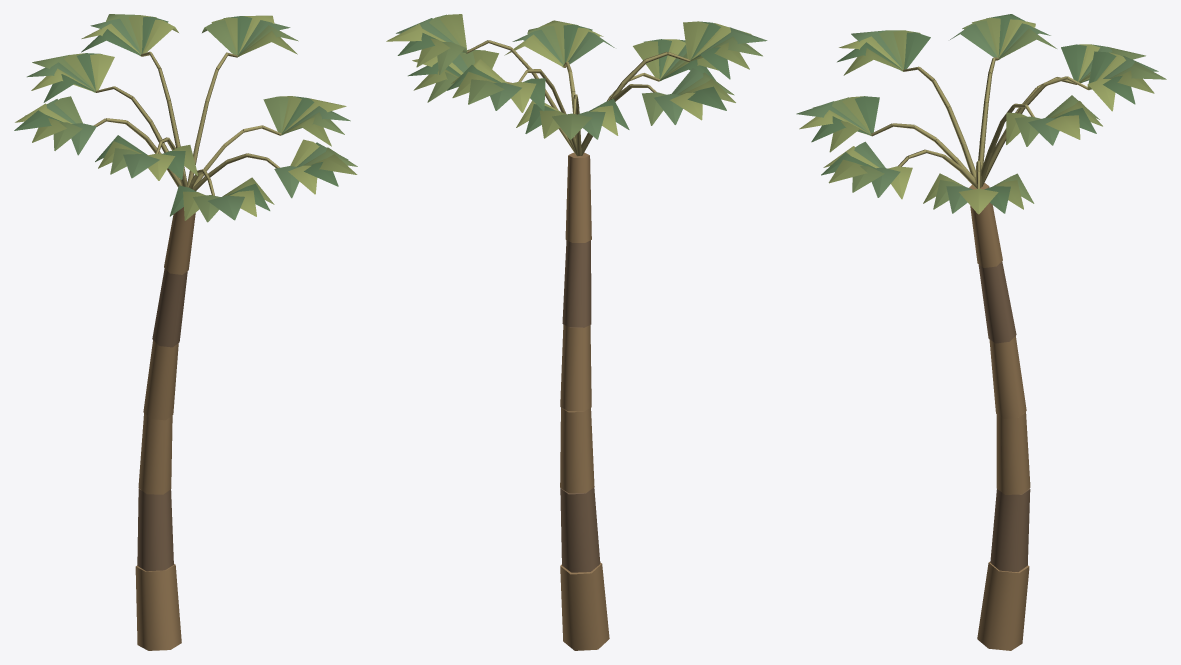
File: fan-palm-far.glb
3 views of the same model, side by side, from view 1: azimuth 30°, elevation 25°; view 2: azimuth 150°, elevation 25°; view 3: azimuth 270°, elevation 25° (orthographic). The views are drawn at different scales.
Visible parts, largest first — view 1: Crown_Foliage, Trunk_Wood; view 2: Crown_Foliage, Trunk_Wood; view 3: Crown_Foliage, Trunk_Wood.
Boxes of the visible parts, x1,y1,x2,y2 form: Crown_Foliage: (14,14,357,222); Trunk_Wood: (93,51,281,650); Crown_Foliage: (386,14,767,139); Trunk_Wood: (466,40,690,650); Crown_Foliage: (796,14,1166,214); Trunk_Wood: (871,57,1088,650).
Bounding box in the file's own units: 5.87 × 10.23 × 5.81.
